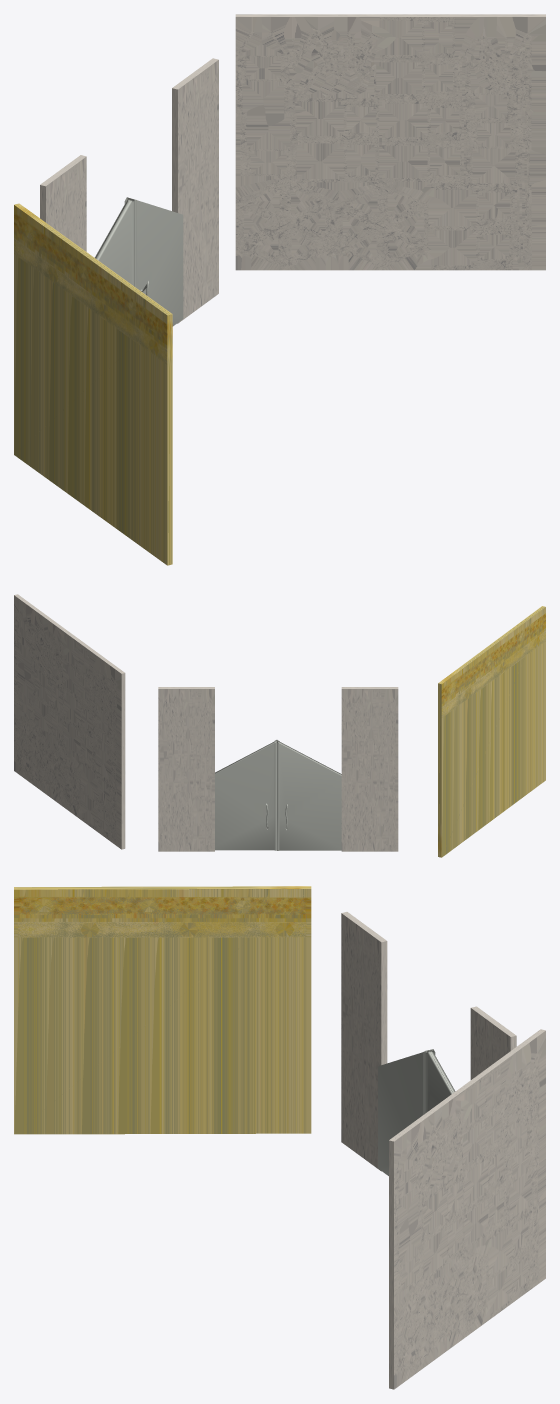
The picture shows the model from 3 angles, top to bottom: view 1: azimuth 30°, elevation 25°; view 2: azimuth 150°, elevation 25°; view 3: azimuth 270°, elevation 25°; orthographic projection. The views are drawn at different scales.
Parts seen in each view (by area): view 1: Lounge_sign_wall_front, Orrery_wall, Lounge_sign_wall_door, LeftDoorOut, Lounge_sign_wall_door_left, RightDoorOut; view 2: Lounge_sign_wall_front, Orrery_wall, Lounge_sign_wall_door_left, Lounge_sign_wall_door, RightDoorIn, LeftDoorIn; view 3: Orrery_wall, Lounge_sign_wall_front, Lounge_sign_wall_door_left, RightDoorOut, Lounge_sign_wall_door, LeftDoorOut.
Part boxes in pixels (<box>): Lounge_sign_wall_front: <box>235,14,545,270</box>; Orrery_wall: <box>14,203,172,565</box>; Lounge_sign_wall_door: <box>172,58,218,323</box>; LeftDoorOut: <box>131,198,183,326</box>; Lounge_sign_wall_door_left: <box>40,155,86,251</box>; RightDoorOut: <box>97,199,134,286</box>; Lounge_sign_wall_front: <box>14,594,125,849</box>; Orrery_wall: <box>438,606,545,857</box>; Lounge_sign_wall_door_left: <box>341,687,398,851</box>; Lounge_sign_wall_door: <box>158,687,214,851</box>; RightDoorIn: <box>277,741,341,850</box>; LeftDoorIn: <box>215,741,276,850</box>; Orrery_wall: <box>14,886,311,1134</box>; Lounge_sign_wall_front: <box>389,1029,545,1389</box>; Lounge_sign_wall_door_left: <box>341,912,387,1171</box>; RightDoorOut: <box>378,1051,424,1175</box>; Lounge_sign_wall_door: <box>470,1006,516,1079</box>; LeftDoorOut: <box>424,1050,452,1113</box>.
Size of the model in its own units: 1480 by 664 by 1213.
